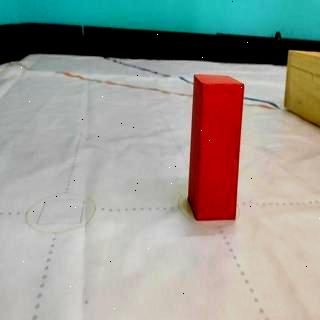redbox: (190, 72, 244, 221)
